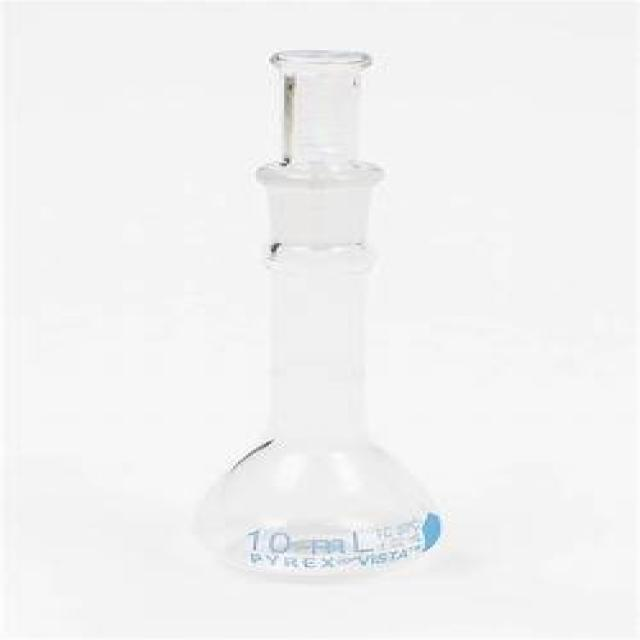Volumetric flask: (213, 22, 454, 576)
